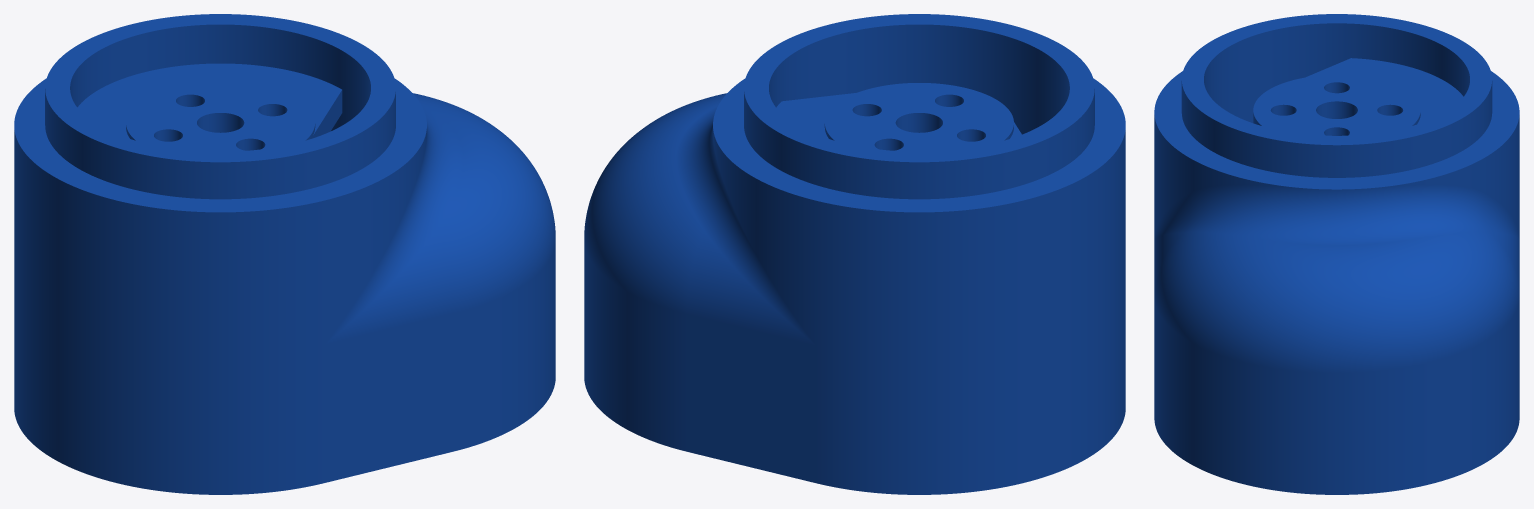
Rendered from Assembly 2 - Part 1 (13).obj.
The picture shows the model from 3 angles, left to right: view 1: azimuth 30°, elevation 25°; view 2: azimuth 150°, elevation 25°; view 3: azimuth 270°, elevation 25°; orthographic projection. The views are drawn at different scales.
Parts seen in each view (by area): view 1: mesh23, mesh12, mesh17, mesh14, mesh36, mesh49, mesh37, mesh19, mesh55, mesh50, mesh25, mesh24 (+3 smaller); view 2: mesh23, mesh49, mesh11, mesh15, mesh13, mesh36, mesh37, mesh19, mesh55, mesh21, mesh20, mesh22 (+3 smaller); view 3: mesh13, mesh14, mesh15, mesh17, mesh49, mesh36, mesh37, mesh19, mesh20, mesh24, mesh55, mesh23 (+6 smaller).
Boxes of the visible parts, bbox=[...] form: mesh23: bbox=[14, 129, 426, 494]; mesh12: bbox=[323, 314, 452, 482]; mesh17: bbox=[436, 115, 555, 313]; mesh14: bbox=[453, 244, 555, 451]; mesh36: bbox=[45, 89, 395, 199]; mesh49: bbox=[70, 24, 370, 130]; mesh37: bbox=[45, 14, 395, 162]; mesh19: bbox=[14, 78, 426, 212]; mesh55: bbox=[126, 83, 315, 151]; mesh50: bbox=[77, 63, 341, 138]; mesh25: bbox=[324, 230, 452, 345]; mesh24: bbox=[408, 116, 463, 229]; mesh23: bbox=[713, 129, 1125, 494]; mesh49: bbox=[769, 24, 1069, 134]; mesh11: bbox=[687, 314, 816, 482]; mesh15: bbox=[584, 115, 703, 313]; mesh13: bbox=[584, 244, 686, 451]; mesh36: bbox=[744, 89, 1094, 199]; mesh37: bbox=[744, 14, 1094, 162]; mesh19: bbox=[713, 78, 1125, 212]; mesh55: bbox=[824, 83, 1013, 151]; mesh21: bbox=[687, 230, 815, 345]; mesh20: bbox=[676, 116, 731, 229]; mesh22: bbox=[704, 202, 815, 344]; mesh13: bbox=[1337, 299, 1519, 494]; mesh14: bbox=[1154, 299, 1336, 494]; mesh15: bbox=[1337, 231, 1519, 373]; mesh17: bbox=[1154, 231, 1336, 373]; mesh49: bbox=[1204, 23, 1469, 122]; mesh36: bbox=[1181, 81, 1492, 177]; mesh37: bbox=[1181, 14, 1492, 145]; mesh19: bbox=[1154, 71, 1519, 189]; mesh20: bbox=[1337, 184, 1489, 245]; mesh24: bbox=[1184, 184, 1336, 245]; mesh55: bbox=[1253, 75, 1420, 135]; mesh23: bbox=[1154, 115, 1519, 237].
Size of the model in its own units: 0.0653 by 0.041 by 0.048.
